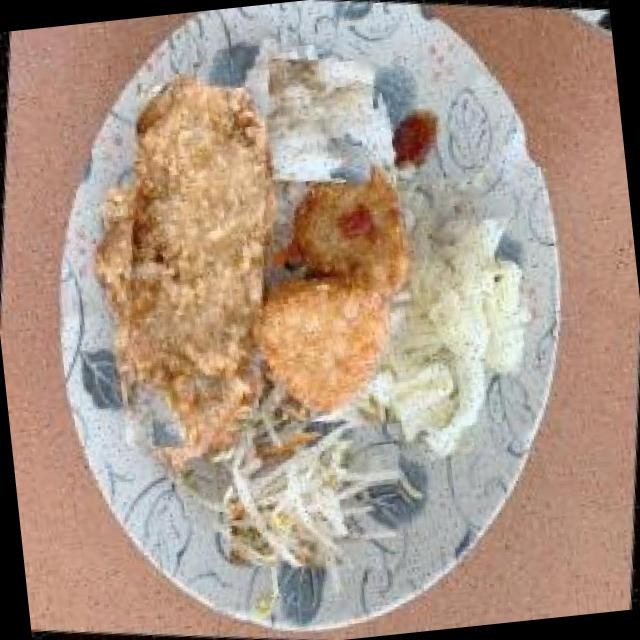chinese_cabbage: (370, 206, 543, 448)
fried_chicken: (87, 71, 309, 466)
mung_bean_sprouts: (216, 398, 412, 590)
rice: (250, 50, 390, 190)
triangle_hash_brown: (240, 166, 427, 422)
